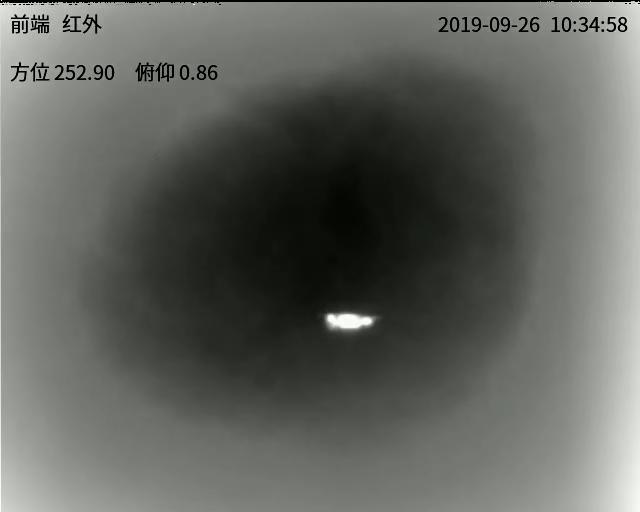uav: (331, 310, 379, 336)
